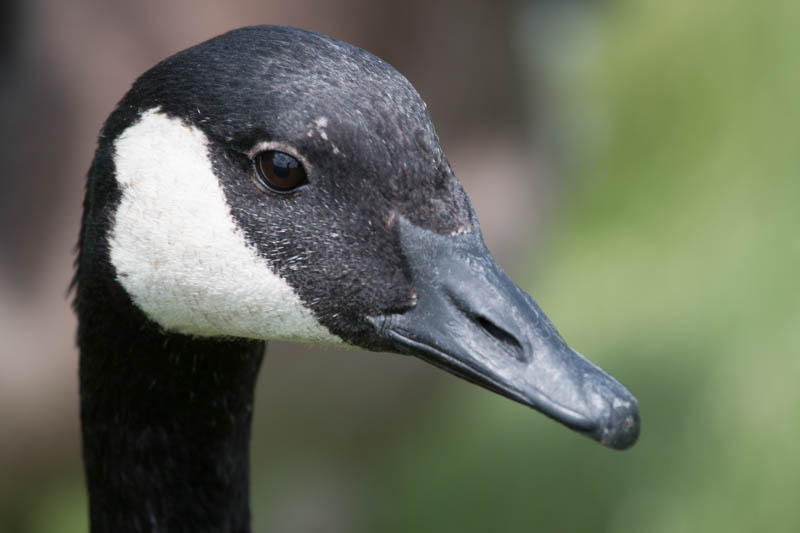goose-head: (77, 25, 642, 451)
